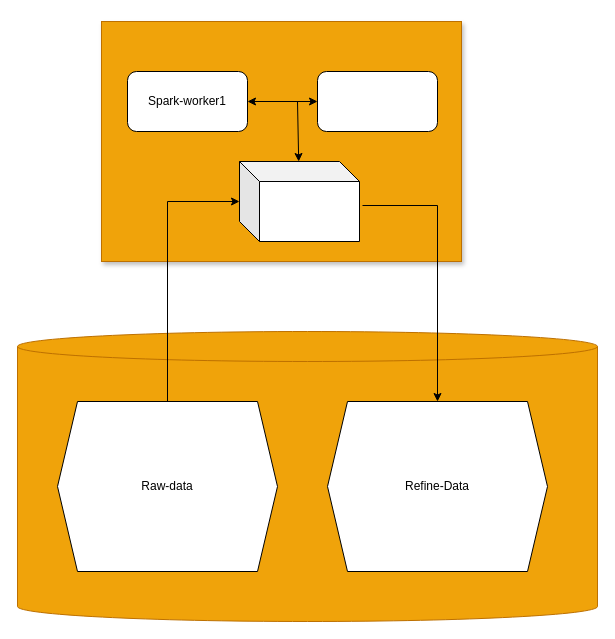
The diagram is 615 pixels wide and 639 high, and some of its shapes have lost their labels. Each missing label, with the centre of its shape:
"Spark-master" belongs at point 299,201.
"spark-worker2" belongs at point 377,101.
